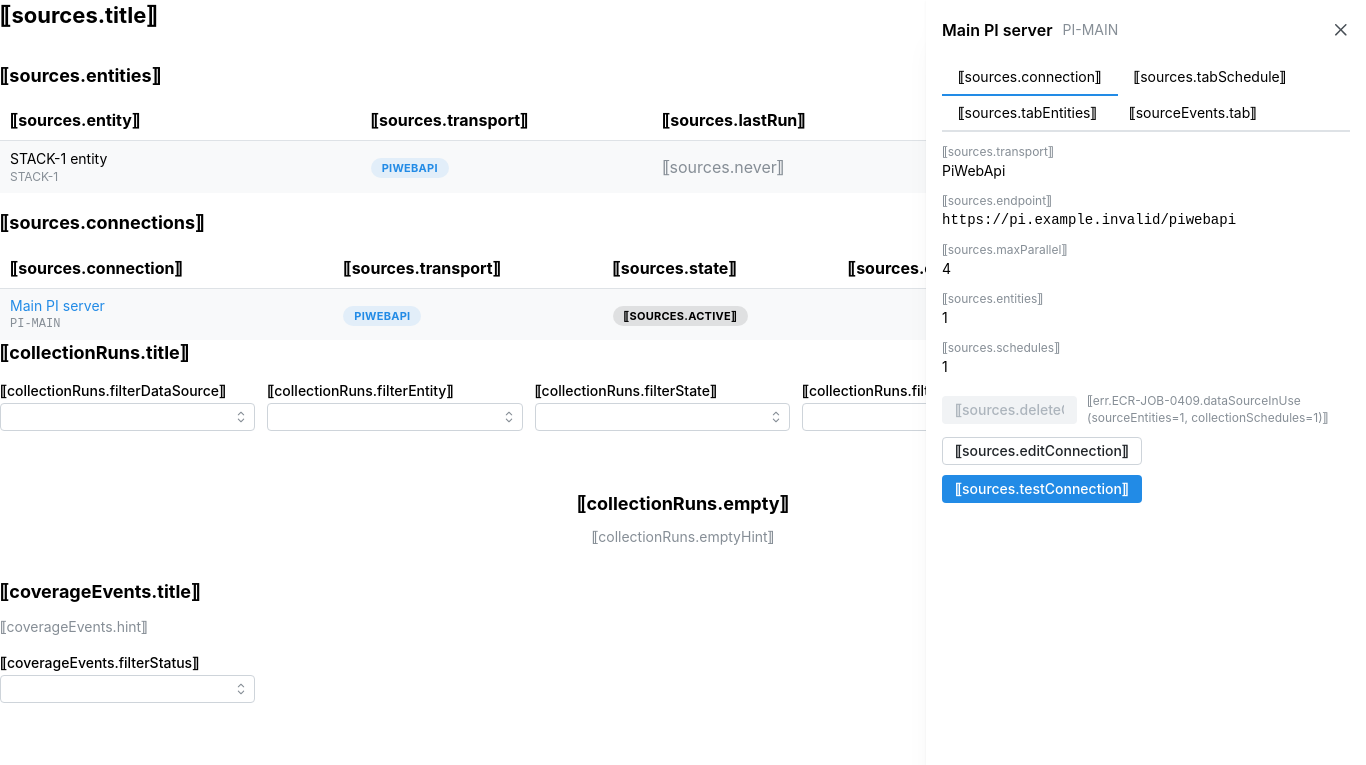
Test: Шухляда з'єднання: вкладка Schedule і Integration.EditSchedule › з EditSchedule — вкладка є, перелік розкладів і вибір сутності для правки
The width and height of the screenshot is (1366, 765).
Expected: the text "https://pi.example.invalid/piwebapi" is shown, [942, 212, 1236, 228]
Click the tab "⟦sources.tabSchedule⟧": (1210, 78) [1118, 60, 1302, 96]
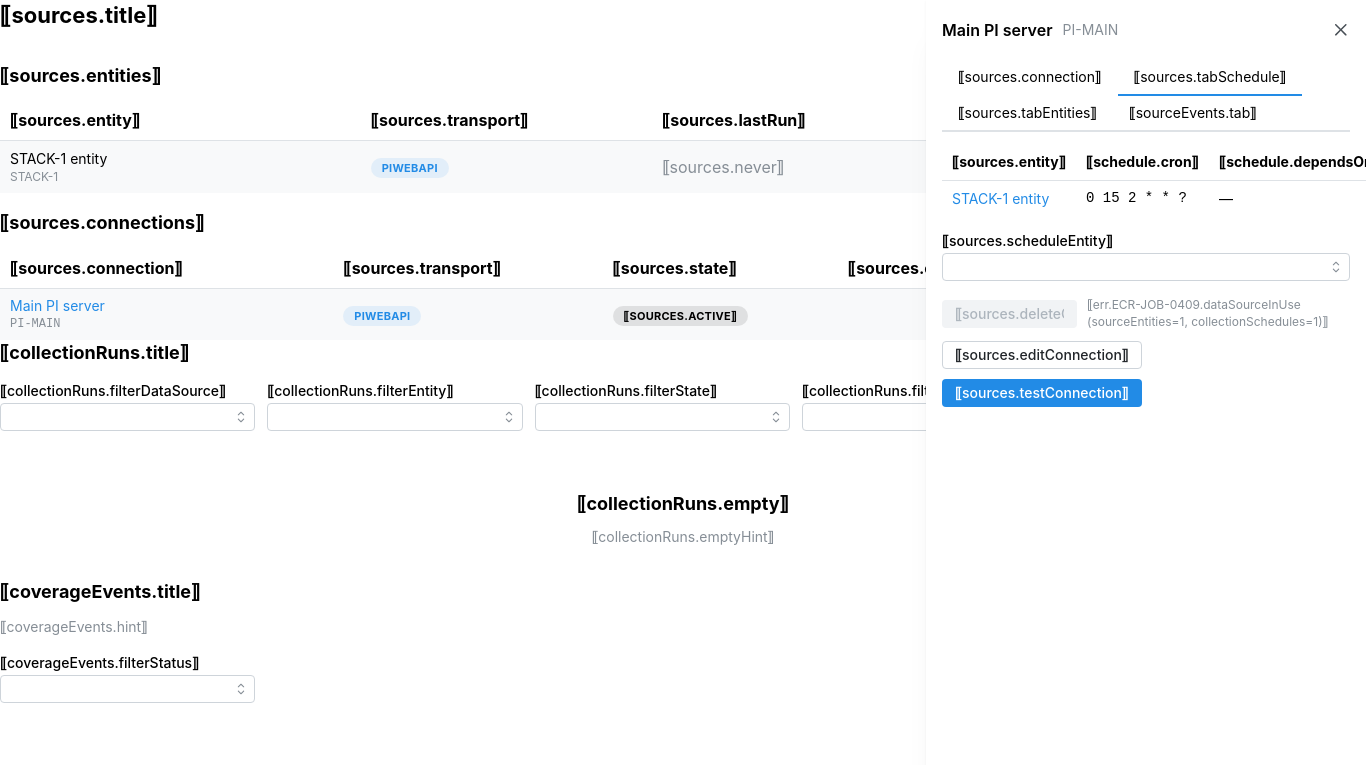
Now the row "STACK-1 entity 0 15 2 * * ? —" is shown, box [942, 180, 1365, 216]
Now the field labelled "⟦sources.scheduleEntity⟧" is shown, box [942, 253, 1350, 281]
Now the button "STACK-1 entity" is shown, box [952, 189, 1049, 209]
